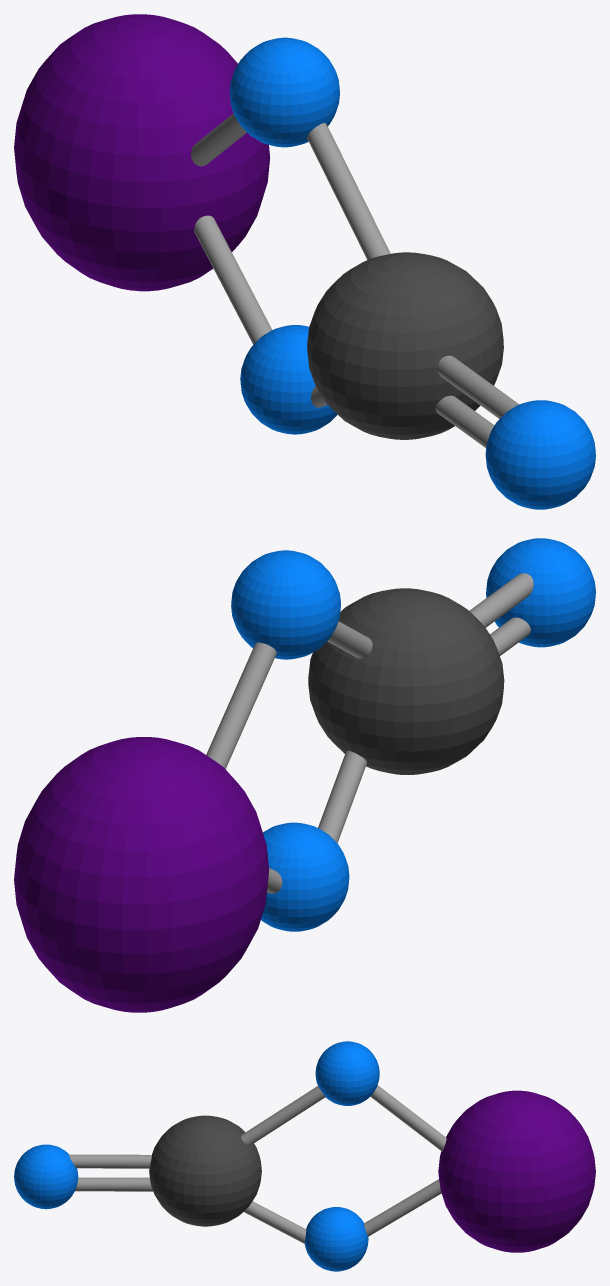
The model's file is caco3.gltf.
3 views of the same model, one above another, from view 1: azimuth 30°, elevation 25°; view 2: azimuth 150°, elevation 25°; view 3: azimuth 270°, elevation 25° (orthographic). The views are drawn at different scales.
Parts seen in each view (by area): view 1: Sphere.003, Sphere, Sphere.002, Sphere.001, Sphere.004, Cylinder.001, Cylinder.003, Cylinder, Cylinder.005, Cylinder.002; view 2: Sphere.003, Sphere, Sphere.001, Sphere.002, Sphere.004, Cylinder.002, Cylinder.004, Cylinder, Cylinder.001, Cylinder.005; view 3: Sphere.003, Sphere, Sphere.001, Sphere.002, Sphere.004, Cylinder.001, Cylinder.002, Cylinder.003, Cylinder, Cylinder.005, Cylinder.004.
Boxes of the visible parts, bbox=[...] form: Sphere.003: bbox=[14, 14, 270, 291]; Sphere: bbox=[307, 252, 503, 439]; Sphere.002: bbox=[485, 400, 595, 509]; Sphere.001: bbox=[229, 37, 339, 147]; Sphere.004: bbox=[240, 325, 337, 434]; Cylinder.001: bbox=[307, 123, 390, 259]; Cylinder.003: bbox=[194, 215, 271, 344]; Cylinder: bbox=[437, 355, 519, 418]; Cylinder.005: bbox=[435, 395, 494, 447]; Cylinder.002: bbox=[191, 113, 246, 166]; Sphere.003: bbox=[14, 737, 269, 1012]; Sphere: bbox=[308, 588, 504, 774]; Sphere.001: bbox=[231, 550, 340, 659]; Sphere.002: bbox=[486, 538, 595, 647]; Sphere.004: bbox=[261, 822, 349, 931]; Cylinder.002: bbox=[206, 642, 276, 768]; Cylinder.004: bbox=[318, 750, 367, 843]; Cylinder: bbox=[469, 573, 533, 627]; Cylinder.001: bbox=[327, 621, 372, 658]; Cylinder.005: bbox=[490, 617, 530, 655]; Sphere.003: bbox=[438, 1090, 595, 1252]; Sphere: bbox=[149, 1115, 261, 1226]; Sphere.001: bbox=[315, 1041, 379, 1105]; Sphere.002: bbox=[14, 1144, 78, 1209]; Sphere.004: bbox=[304, 1207, 368, 1271]; Cylinder.001: bbox=[241, 1086, 325, 1145]; Cylinder.002: bbox=[370, 1085, 446, 1151]; Cylinder.003: bbox=[364, 1179, 441, 1236]; Cylinder: bbox=[69, 1154, 151, 1168]; Cylinder.005: bbox=[75, 1177, 153, 1191]; Cylinder.004: bbox=[244, 1201, 306, 1243].
Size of the model in its own units: 5.9 by 9.8 by 23.1.
